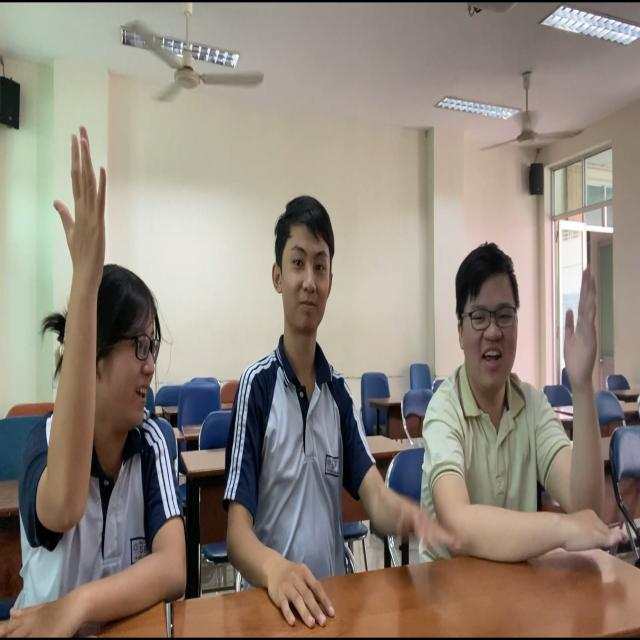raise_hand: (1, 127, 203, 640), (431, 234, 617, 582)
